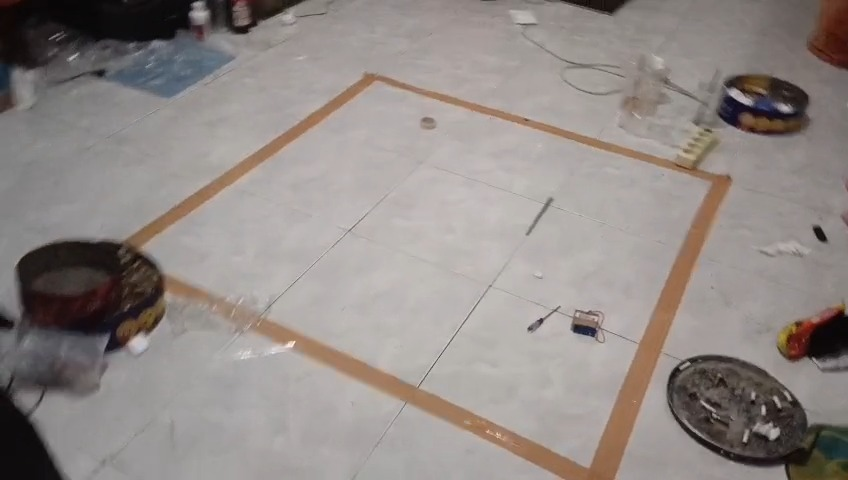floor marking: (126, 73, 731, 479)
